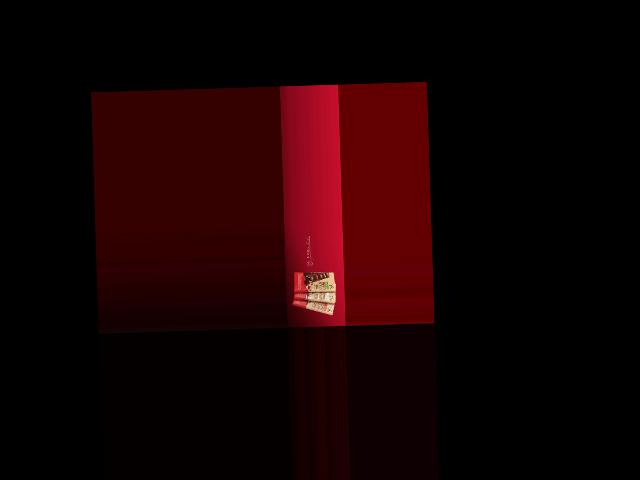chocolate: (290, 293, 337, 316)
